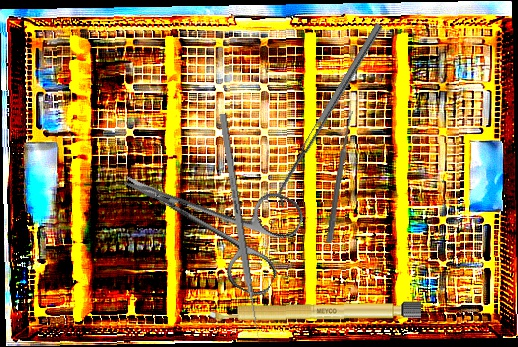Iris Scissors: (104, 130, 309, 301)
Pusher: (218, 113, 263, 345)
Scalpel Handle: (208, 301, 422, 322)
Spatula Surgical: (269, 22, 390, 209)
Surgical Spoon: (326, 109, 354, 244)
